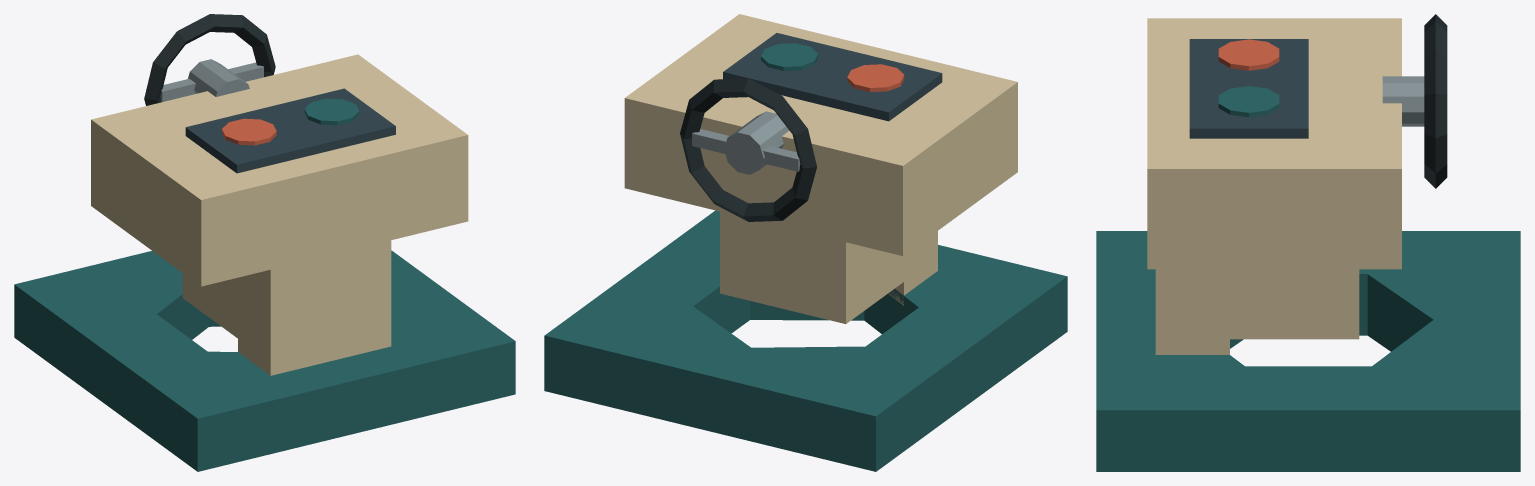
File: helm-lod-2.glb
3 views of the same model, side by side, from view 1: azimuth 30°, elevation 25°; view 2: azimuth 150°, elevation 25°; view 3: azimuth 270°, elevation 25° (orthographic). The views are drawn at different scales.
Visible parts, largest first — view 1: helm_lod_2; view 2: helm_lod_2; view 3: helm_lod_2.
Boxes of the visible parts, x1,y1,x2,y2 form: helm_lod_2: (14, 14, 515, 471); helm_lod_2: (544, 14, 1067, 471); helm_lod_2: (1096, 14, 1520, 471).
Bounding box in the file's own units: 1 × 0.937 × 1.
